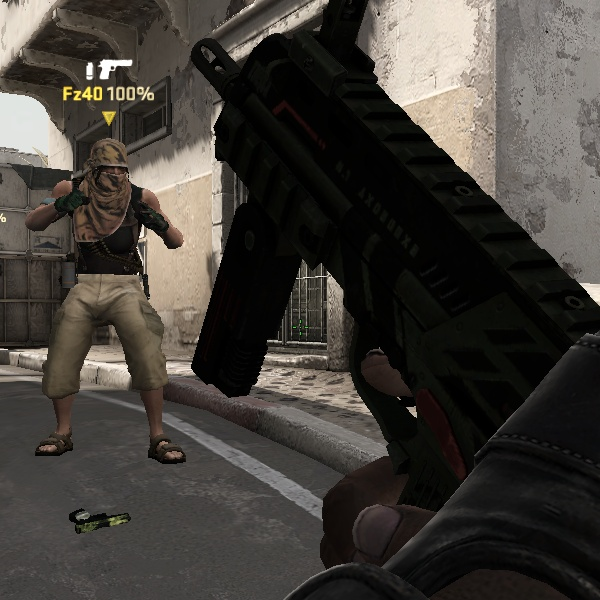t_body: (25, 132, 196, 487)
t_head: (75, 130, 141, 197)
